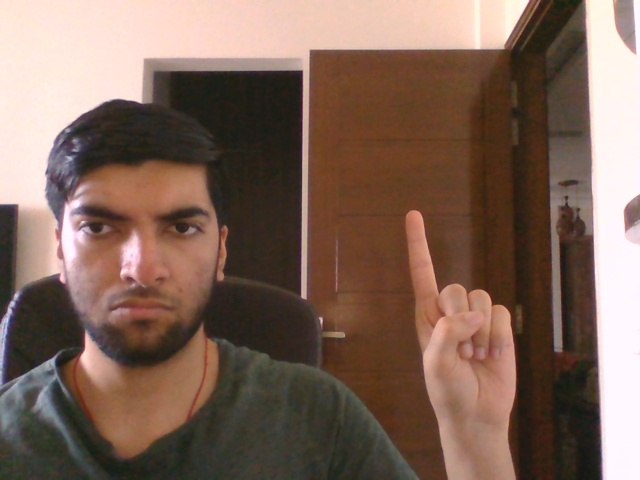LetterD: (404, 209, 517, 432)
